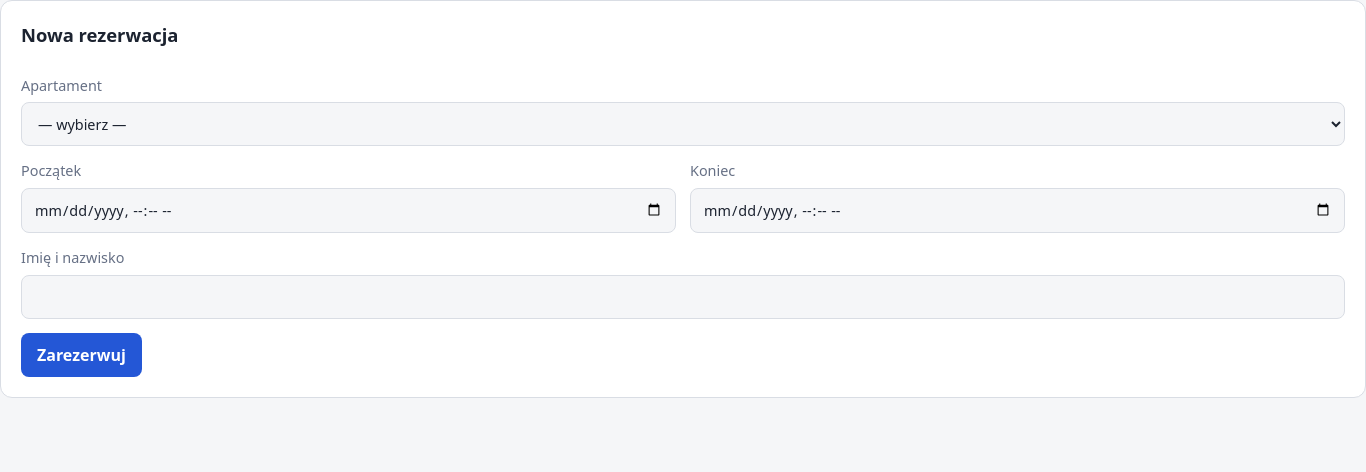
Test case: BookingForm › shows a translated message when the server reports a conflict
Select "Apartament 101" in the dropdown labelled "Apartament" at (683, 124), box [21,102,1345,146]
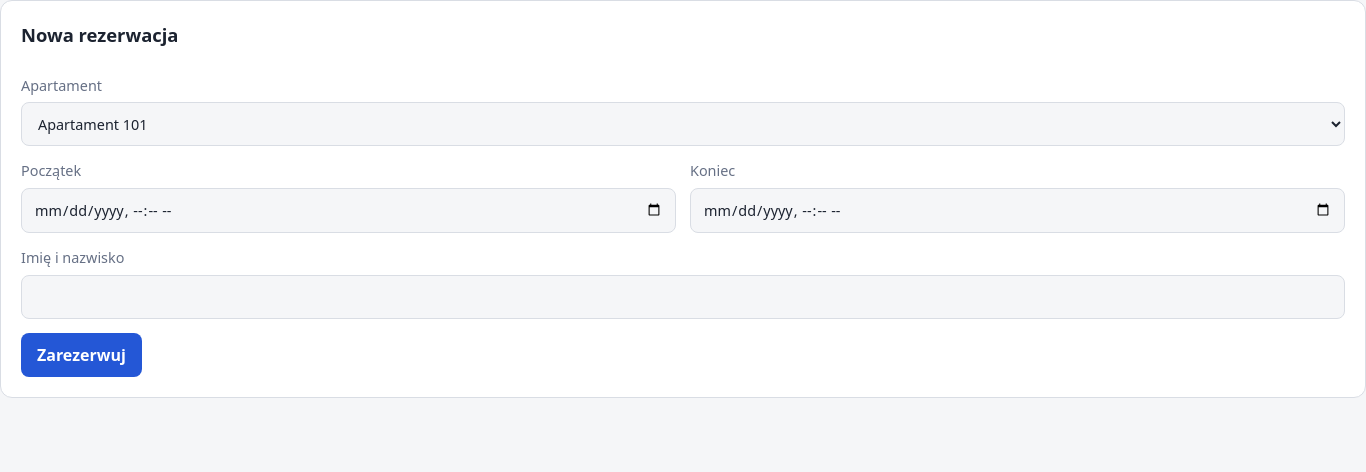
Type "2026-07-01T10:00" into the field labelled "Początek" at (348, 211), box [21,188,676,233]
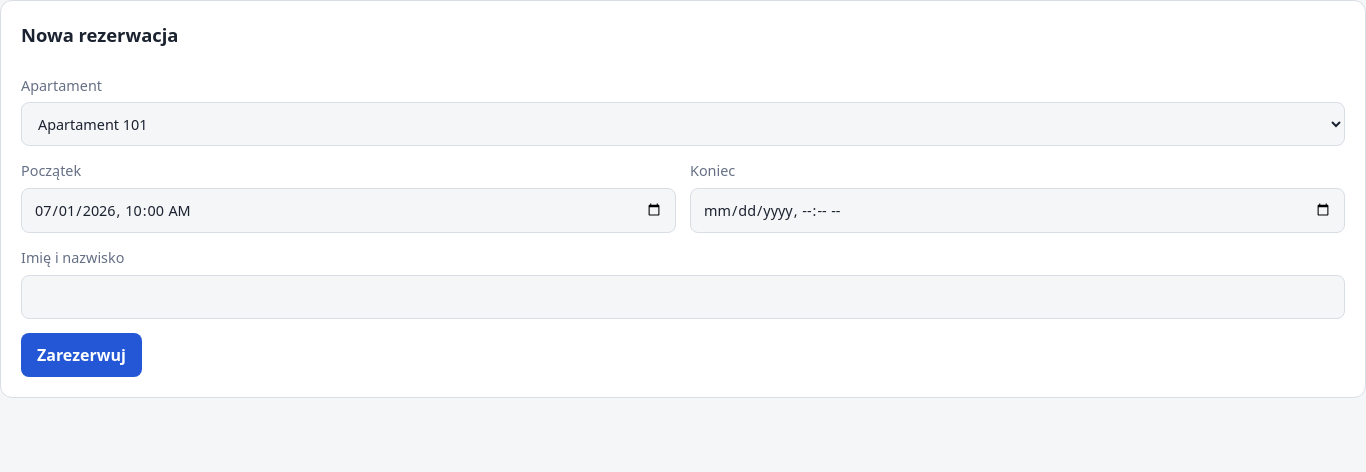
Type "2026-07-03T10:00" into the field labelled "Koniec" at (1018, 211), box [690,188,1345,233]
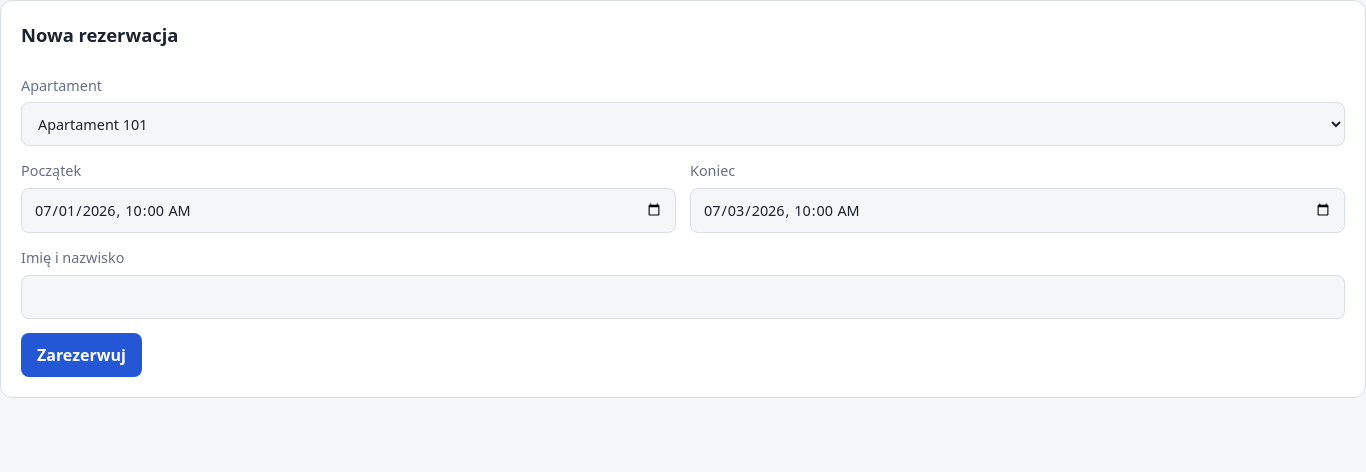
Type "Jan" into the field labelled "Imię i nazwisko" at (683, 297), box [21,275,1345,319]
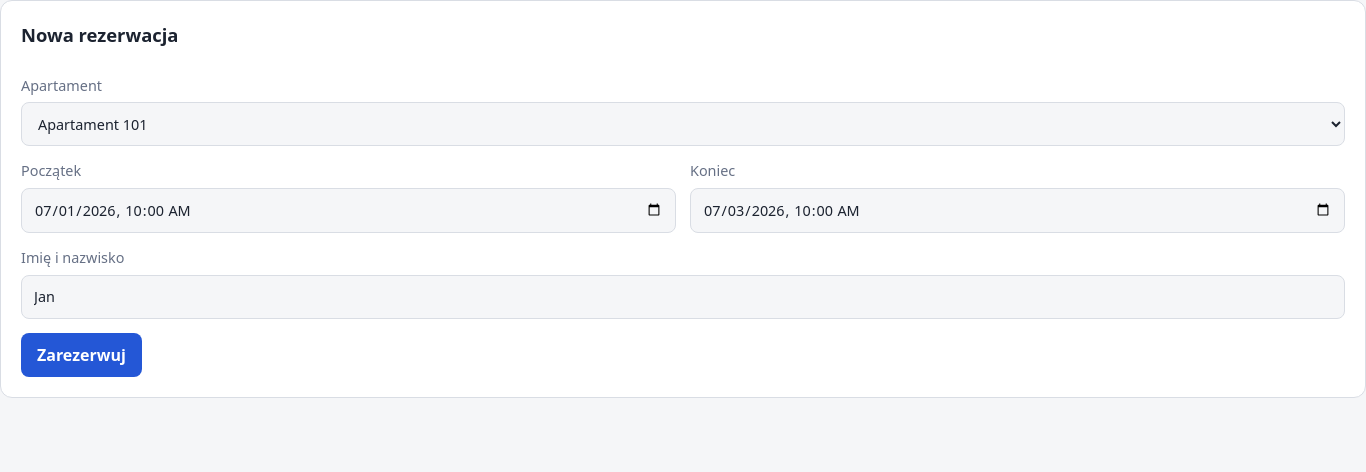
Click the button "Zarezerwuj" at (81, 355), box [21,333,142,377]
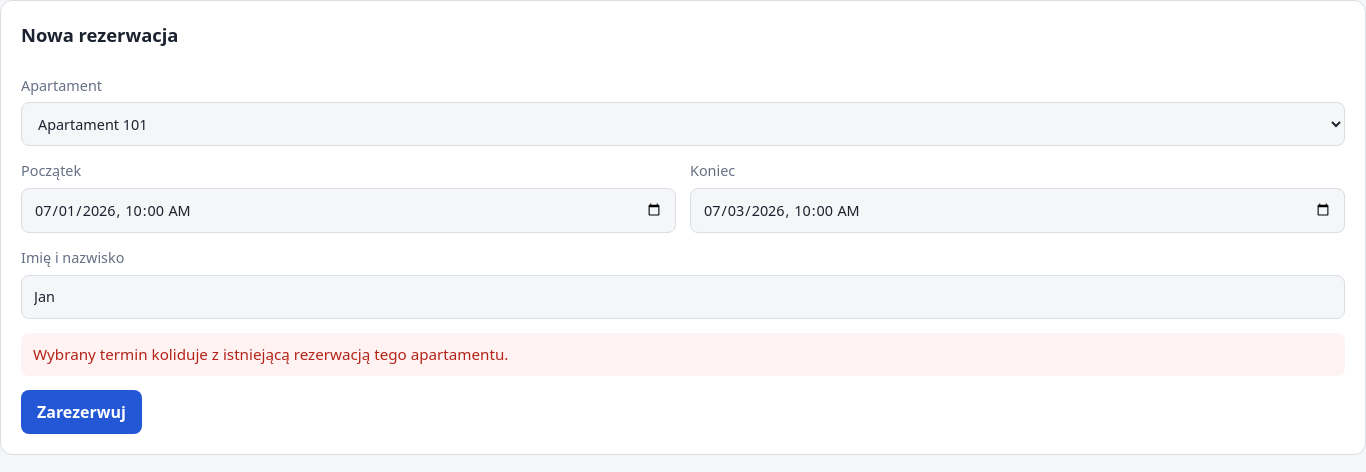
Now the message shows "Wybrany termin koliduje z istniejącą rezerwacją", box [33,344,508,364]
